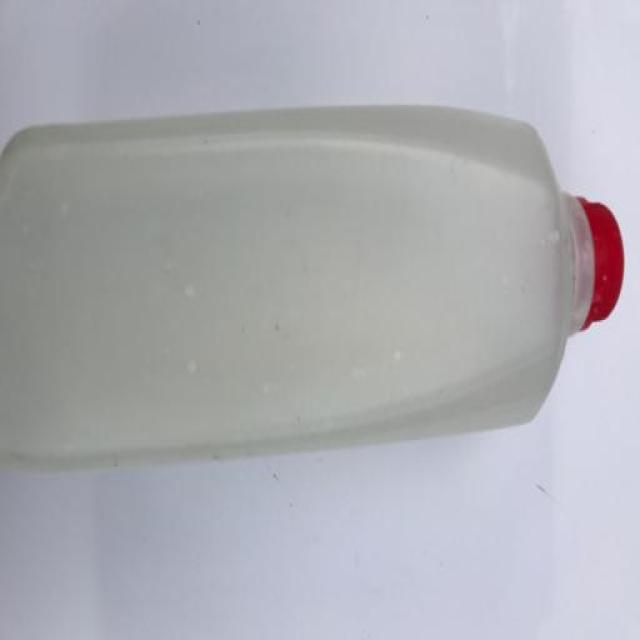Plastic: (0, 100, 625, 475)
